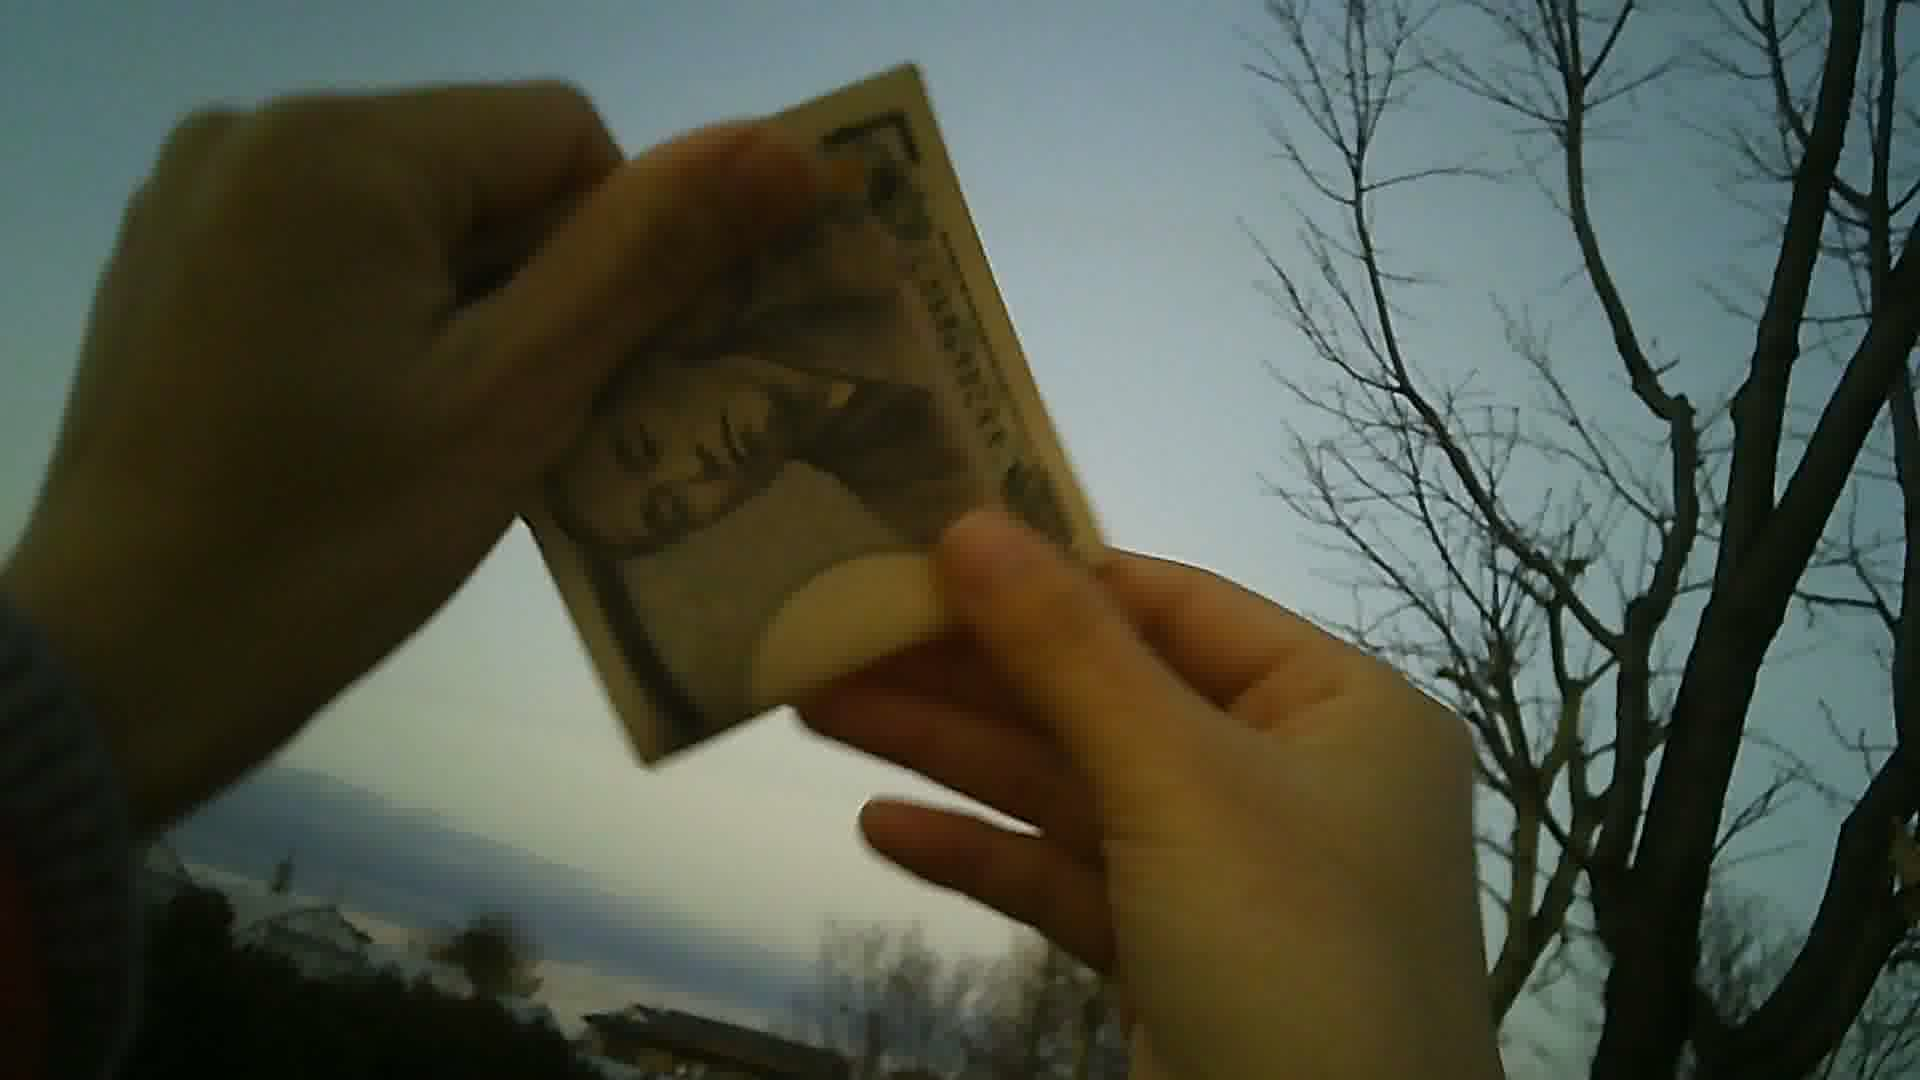10,000 Yen: (469, 79, 1138, 804)
